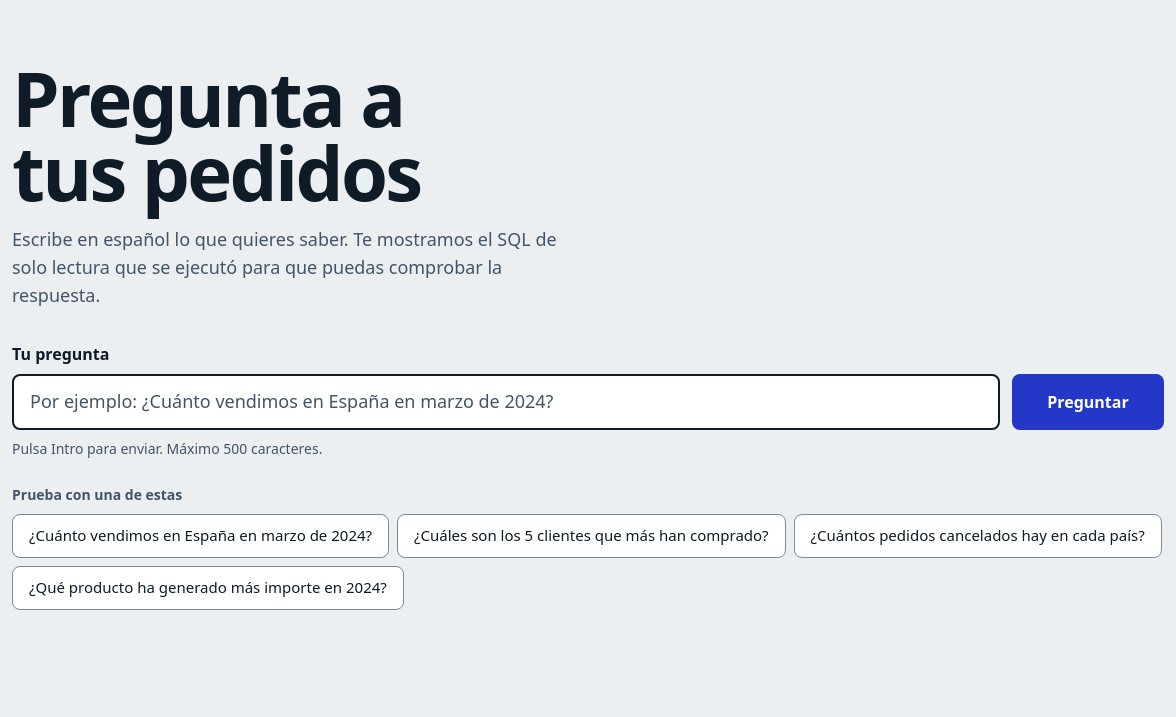
Test: QuestionPanel › muestra un mensaje en español para error_ejecucion
In the field labelled "Tu pregunta": (506, 402) [12,374,1000,430], type "borra todo"
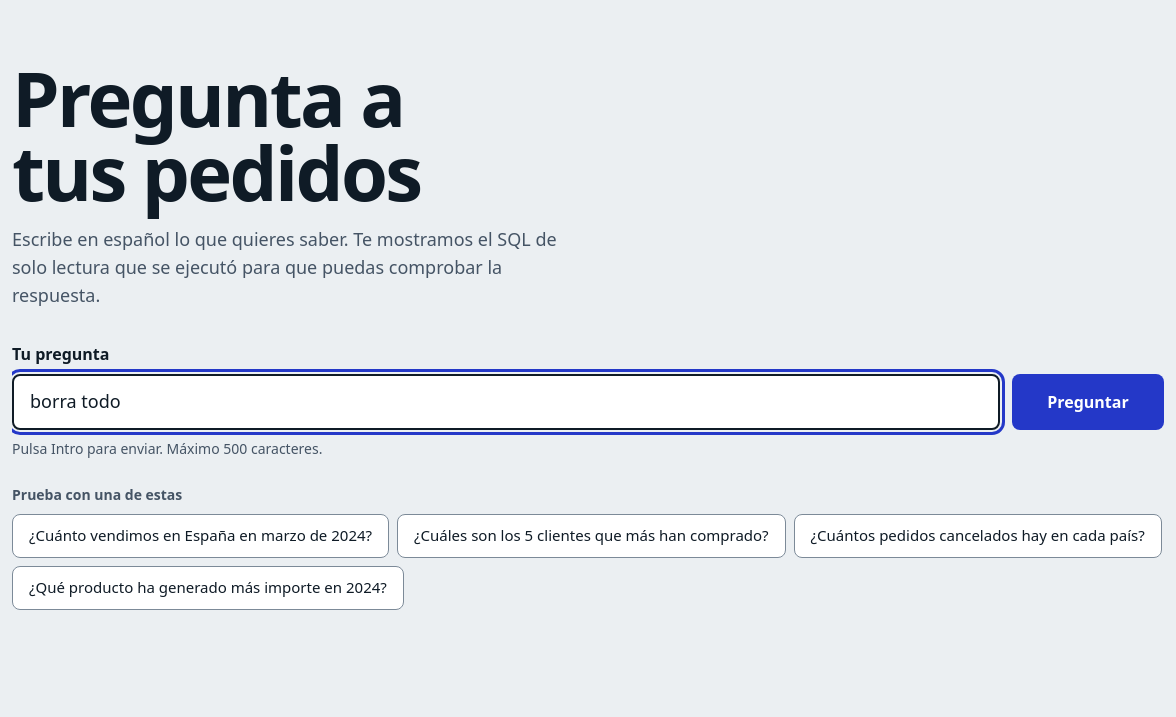
Click the button "Preguntar": (1088, 402) [1012,374,1164,430]
(page scrolled)
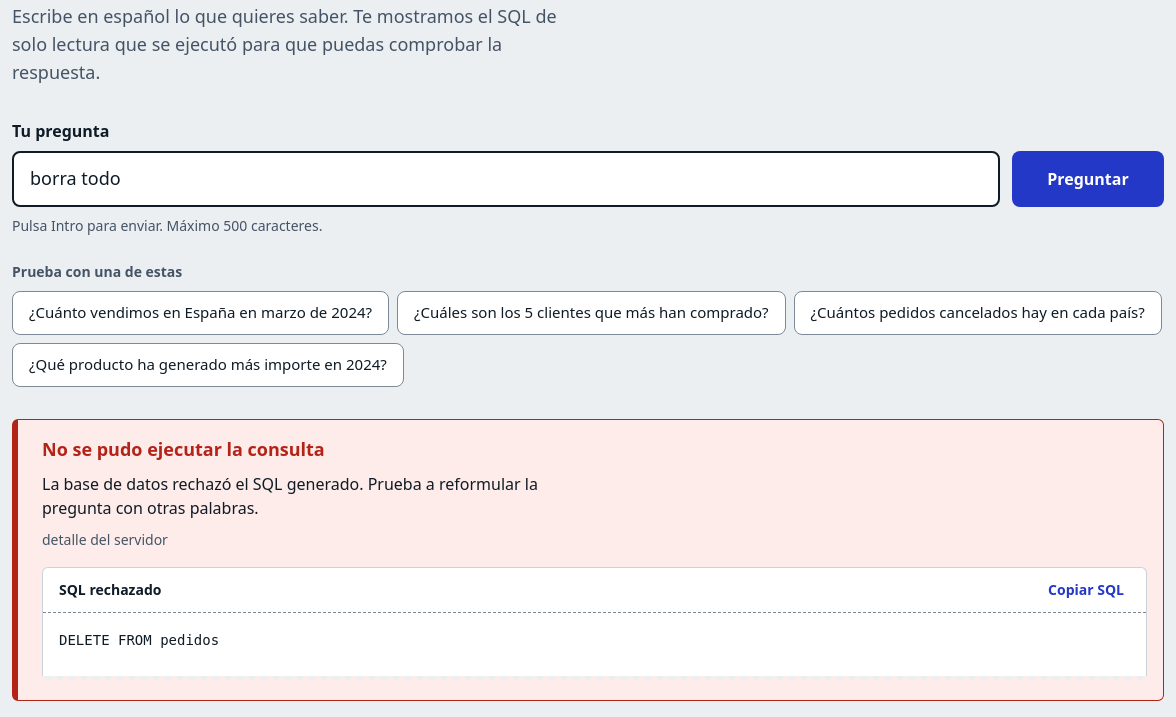
Now the message shows "No se pudo ejecutar la consulta", box [42,437,325,461]
